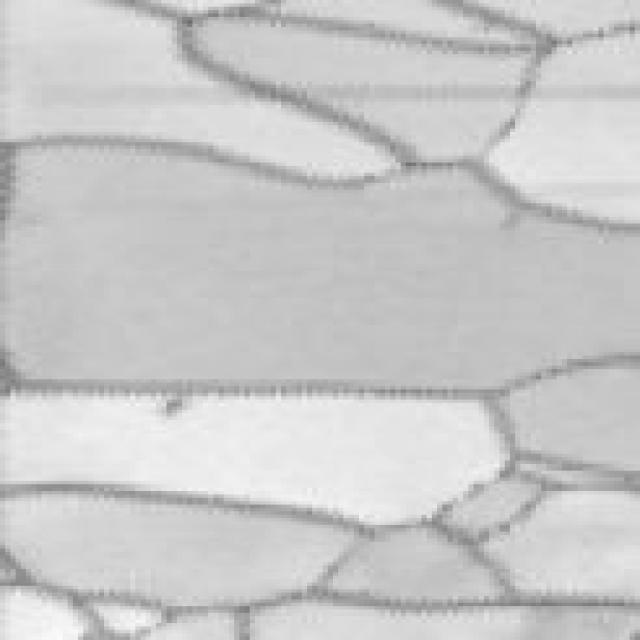good_void: (152, 394, 189, 417)
